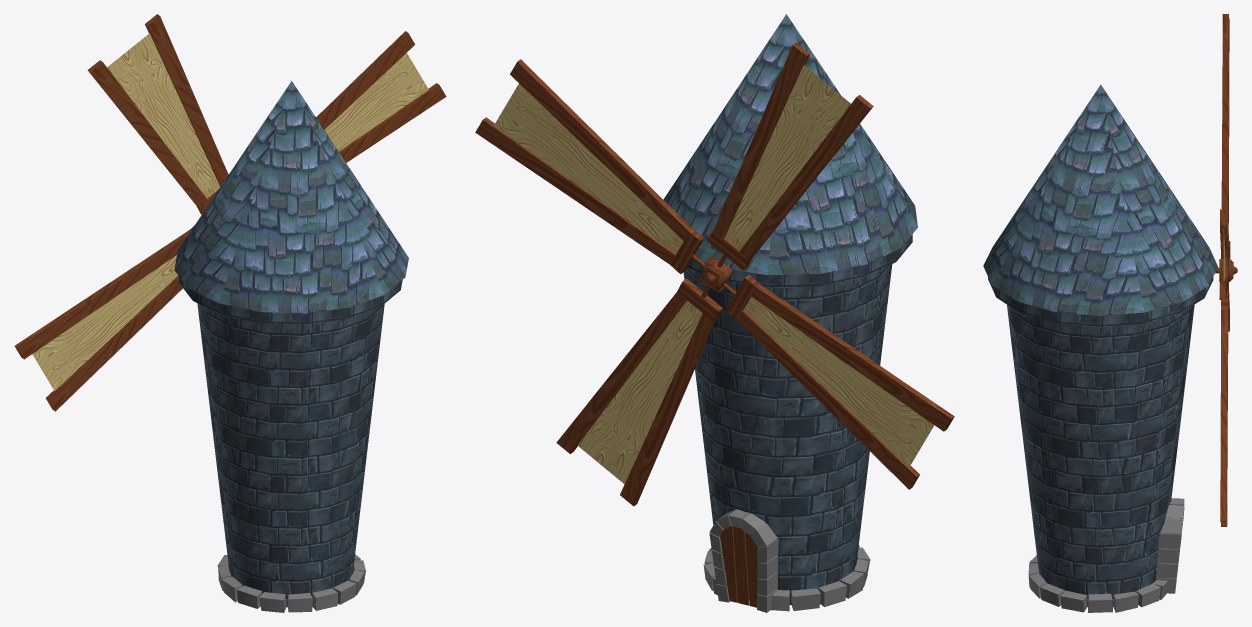
The model's file is ARC0710097.fbx.
The picture shows the model from 3 angles, left to right: view 1: azimuth 30°, elevation 25°; view 2: azimuth 150°, elevation 25°; view 3: azimuth 270°, elevation 25°; orthographic projection. The views are drawn at different scales.
Parts seen in each view (by area): view 1: smARC0710097; view 2: smARC0710097; view 3: smARC0710097.
Boxes of the visible parts, left/top/right/bottom form: smARC0710097: left=14, top=14, right=446, bottom=612; smARC0710097: left=475, top=14, right=954, bottom=612; smARC0710097: left=983, top=14, right=1237, bottom=612.
Bounding box in the file's own units: 1420 × 1714 × 738.
Materials: 1 (1 with a texture image).
